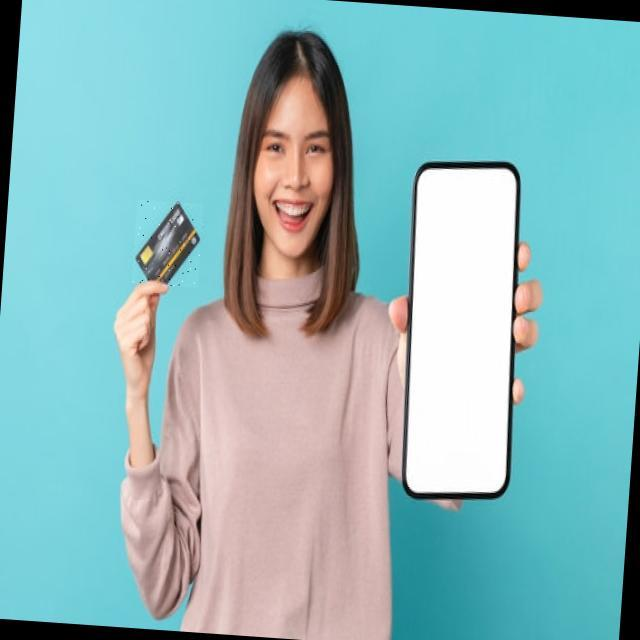payment_card: (134, 200, 200, 287)
